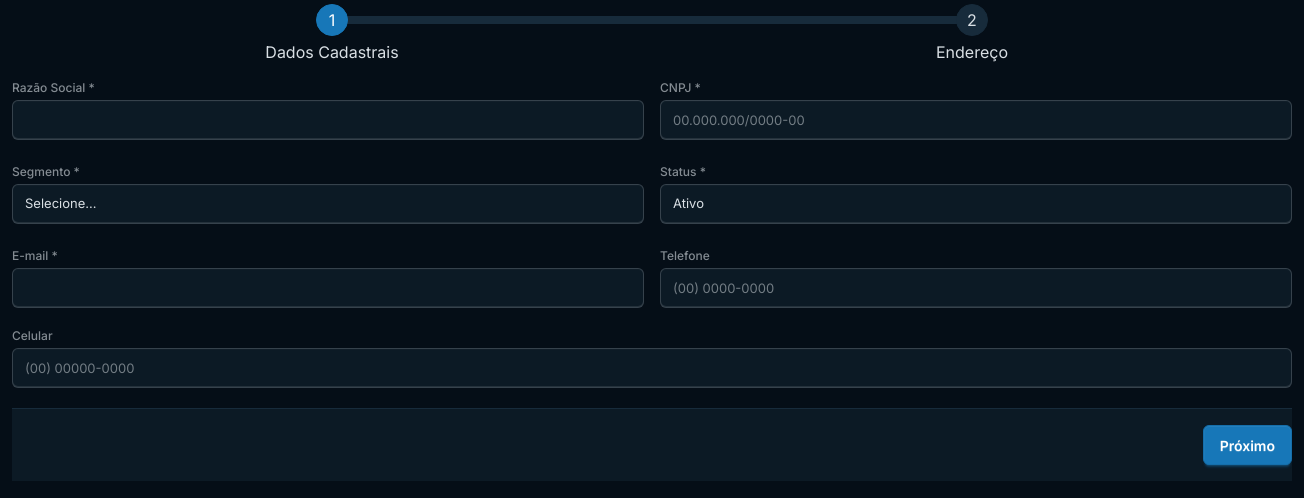
Scenario: ClientStepper — passo 2 (Endereço) › permite voltar ao passo 1
In the field labelled "Razão Social *": (328, 120) [12,100,644,140], type "Empresa XYZ"
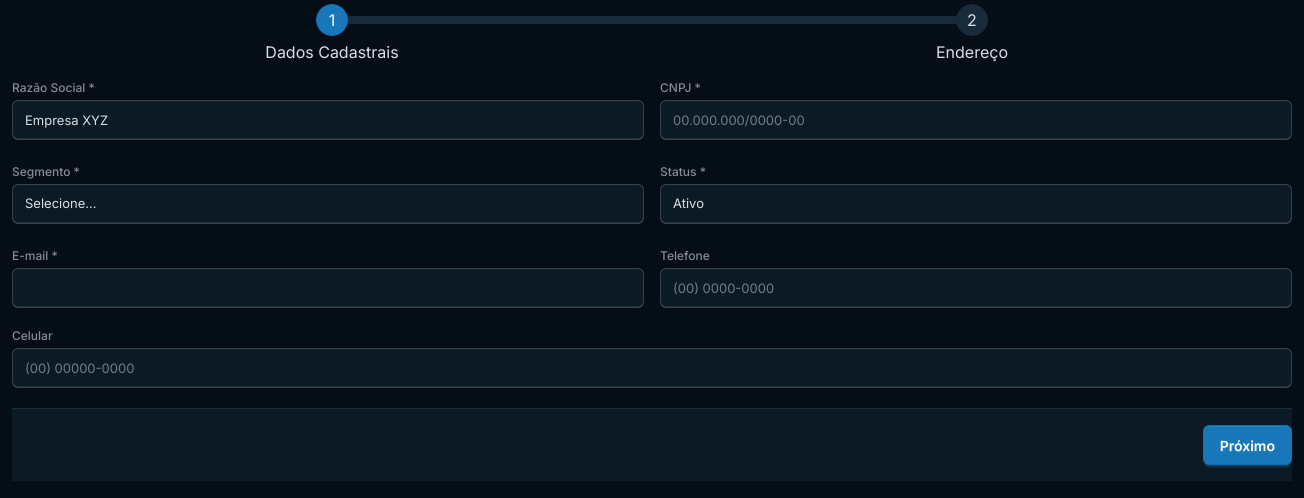
In the field labelled "CNPJ *": (976, 120) [660,100,1292,140], type "11.222.333/0001-81"
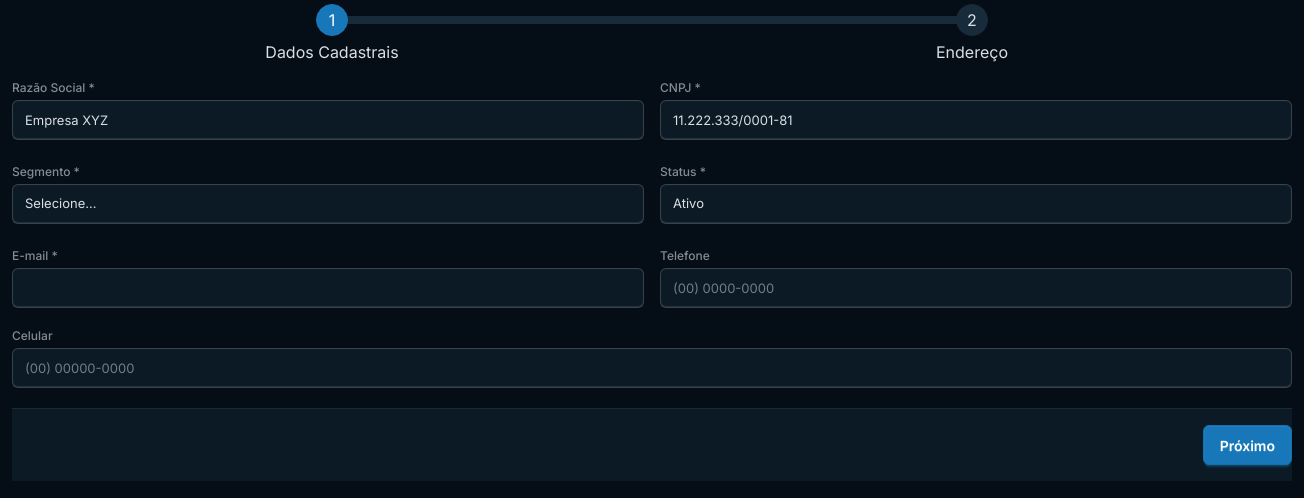
Select "Industrial" in the dropdown labelled "Segmento *": (328, 204) [12,184,644,224]
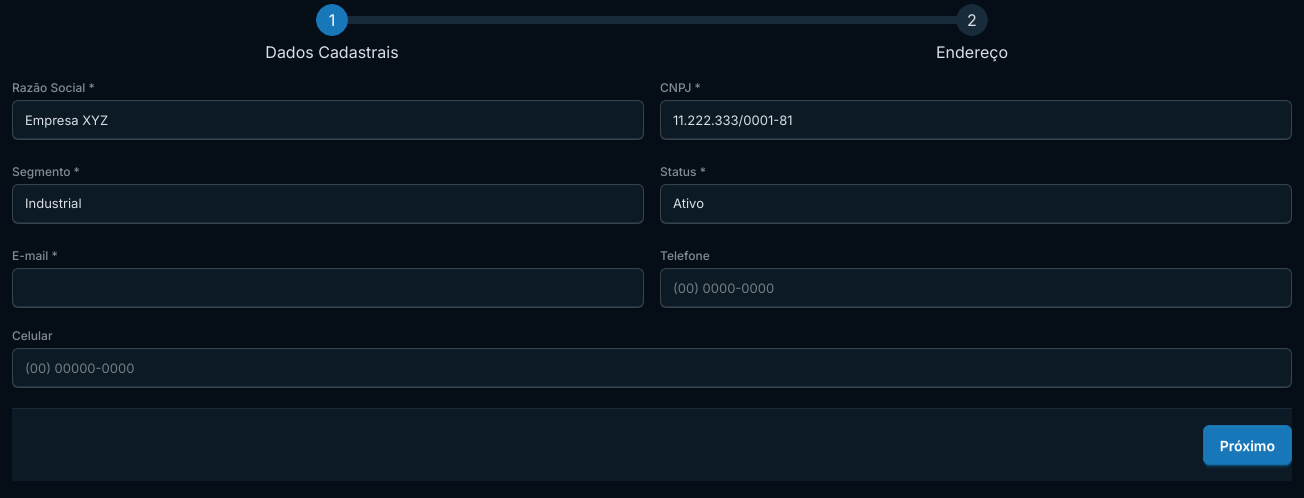
In the field labelled "E-mail *": (328, 288) [12,268,644,308], type "xyz@empresa.com"
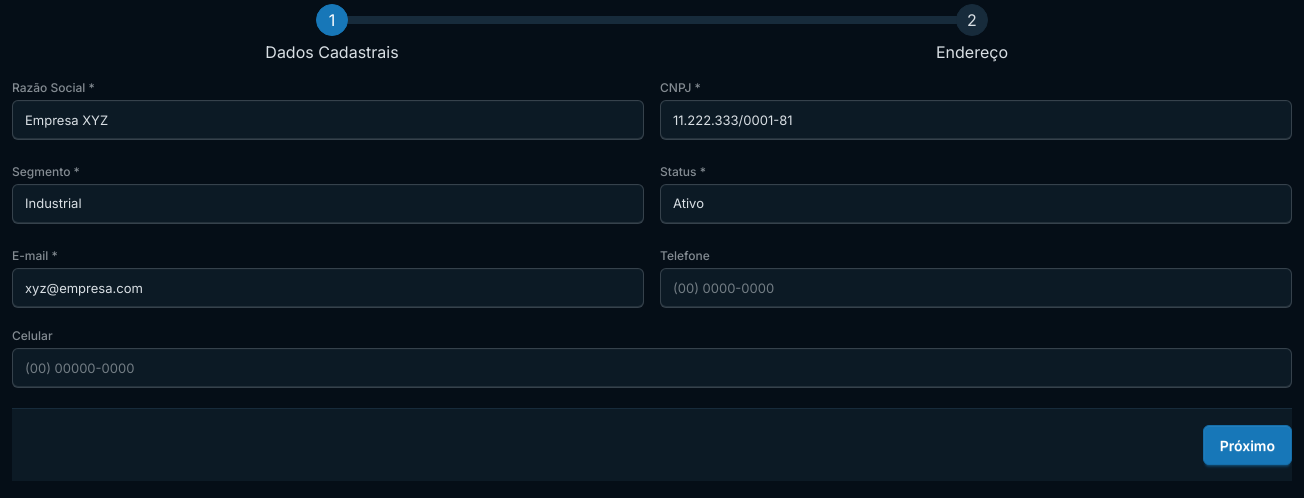
Click the button "Próximo": click(1247, 445) [1203,425,1292,465]
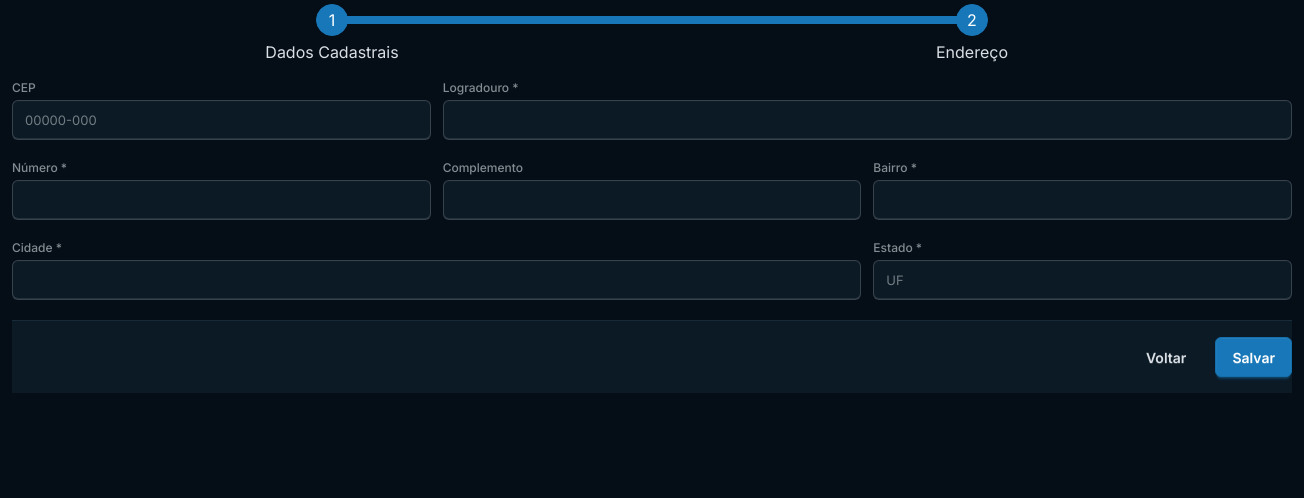
Check: the field labelled "Logradouro *" is shown, box [443,100,1292,140]
Click the button "Voltar": click(1166, 357) [1129,337,1203,377]
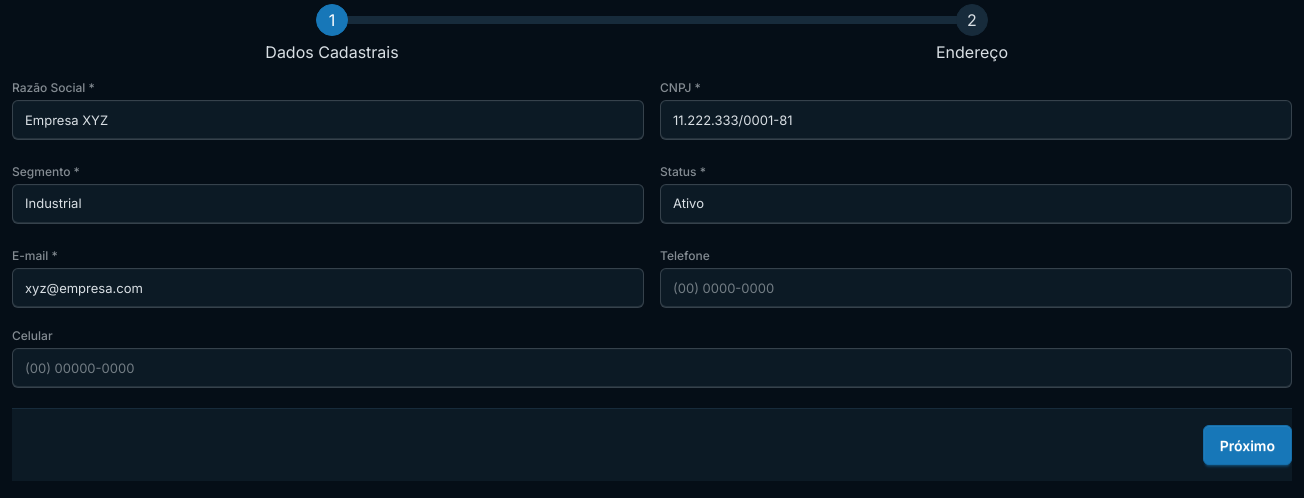
Check: the field labelled "Razão Social *" is shown, box [12,100,644,140]
